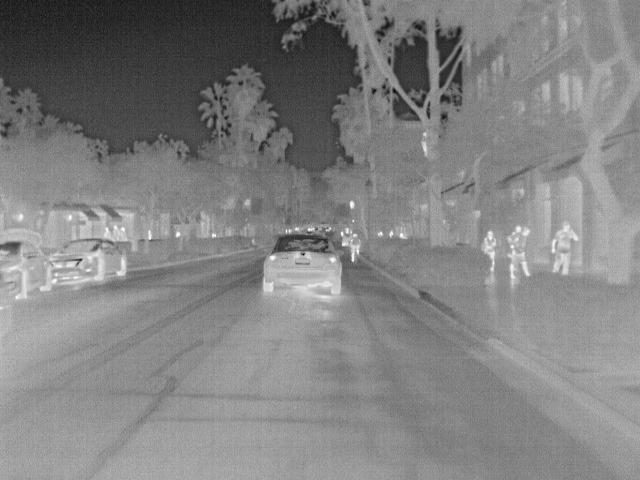car: (260, 235, 344, 298), (45, 239, 129, 284), (2, 241, 56, 298)
person: (547, 222, 580, 280), (508, 225, 534, 282), (482, 228, 498, 276), (349, 230, 363, 262)
